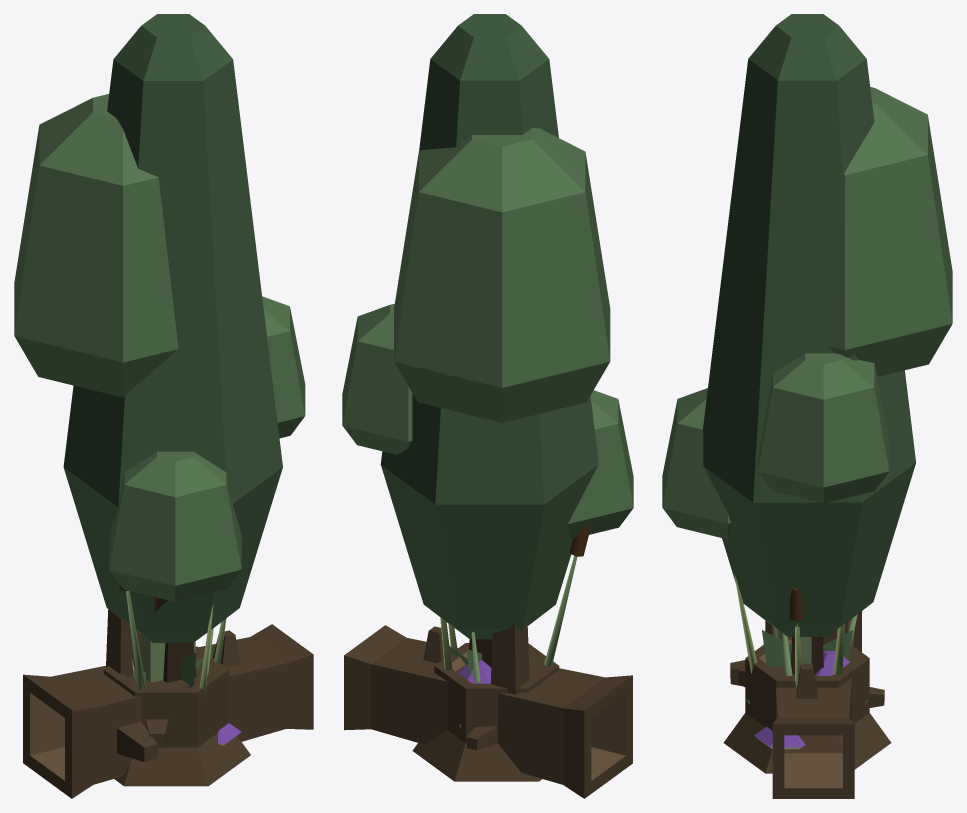
Rendered from props_island3.glb.
The picture shows the model from 3 angles, left to right: view 1: azimuth 30°, elevation 25°; view 2: azimuth 150°, elevation 25°; view 3: azimuth 270°, elevation 25°; orthographic projection.
Visible parts, largest first — view 1: tree_swamp_b, tree_swamp_a, log, stump, reeds, moss, fern; view 2: tree_swamp_a, tree_swamp_b, log, stump, reeds; view 3: tree_swamp_b, tree_swamp_a, log, stump, reeds, fern, mushroom_red.
Boxes of the visible parts, bbox=[...] form: tree_swamp_b: bbox=[63, 14, 282, 682]; tree_swamp_a: bbox=[14, 94, 305, 677]; log: bbox=[23, 624, 313, 798]; stump: bbox=[103, 646, 250, 786]; reeds: bbox=[119, 583, 226, 699]; moss: bbox=[141, 634, 195, 682]; fern: bbox=[133, 650, 212, 732]; tree_swamp_a: bbox=[342, 128, 633, 694]; tree_swamp_b: bbox=[380, 14, 598, 667]; log: bbox=[344, 625, 632, 798]; stump: bbox=[412, 643, 559, 781]; reeds: bbox=[440, 526, 590, 682]; tree_swamp_b: bbox=[703, 14, 915, 674]; tree_swamp_a: bbox=[662, 87, 952, 644]; log: bbox=[730, 611, 884, 798]; stump: bbox=[723, 637, 891, 773]; reeds: bbox=[734, 574, 857, 687]; fern: bbox=[746, 630, 868, 704]; mushroom_red: bbox=[754, 651, 849, 749].
Bounding box in the file's own units: 1.37 × 3.41 × 1.24.
